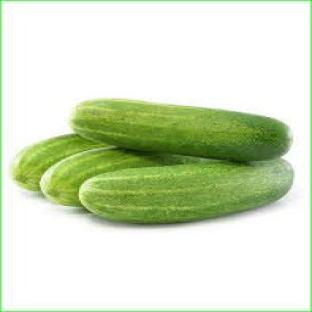Cucumber: (72, 99, 291, 160), (80, 160, 292, 223), (40, 148, 212, 205), (12, 135, 106, 191)
